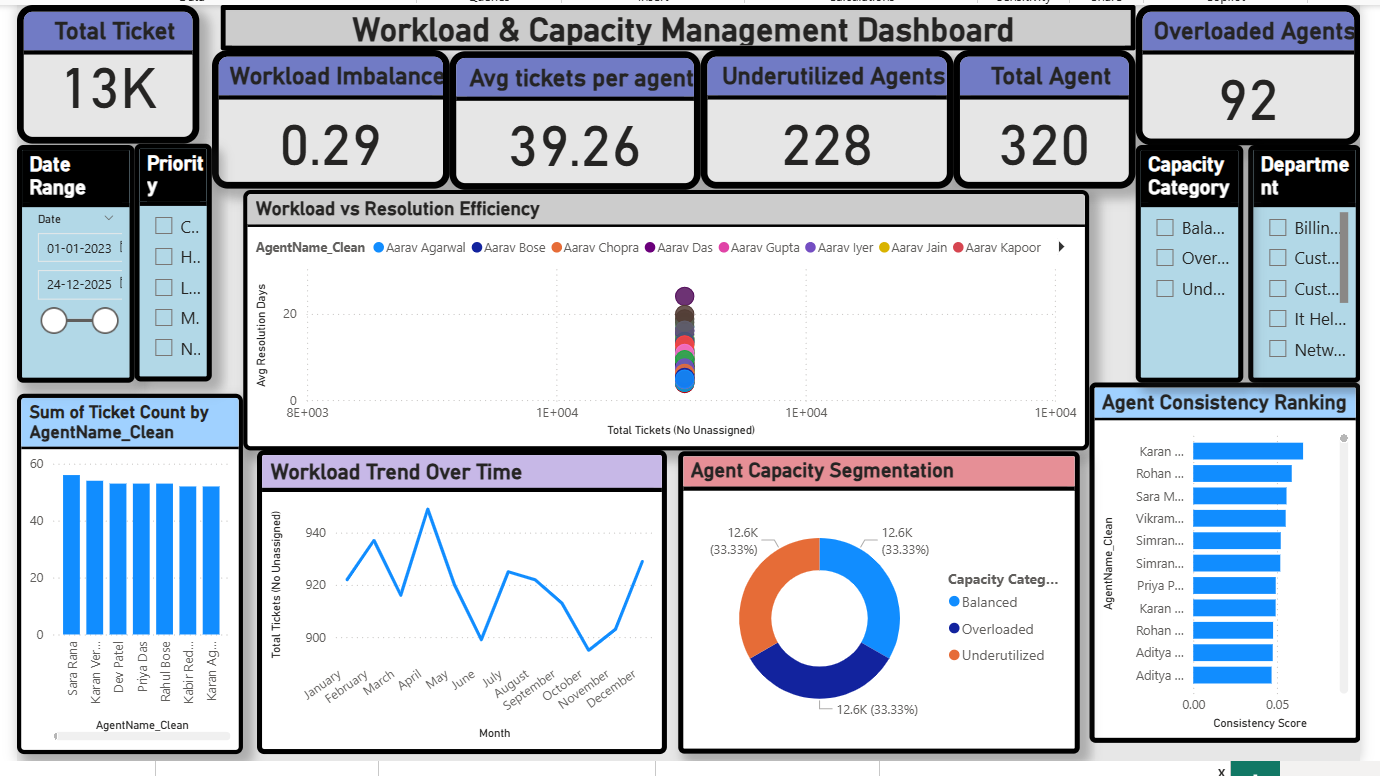

This screenshot's page, from the dashboard's own definition file:
{"tool":"powerbi","page":{"name":"Workload & Capacity Management Dashboard","canvas":[1280,720],"ordinal":4},"visuals":[{"type":"card","title":"Total Ticket","fields":{"Values":["all_measures.Total Tickets"]},"box":[0,0,173.8,132.1],"z":0},{"type":"card","title":"Workload Imbalance","fields":{"Values":["all_measures.Workload Imbalance %"]},"box":[185.7,42.9,226.2,132.1],"z":1000},{"type":"card","title":"Avg tickets per agent","fields":{"Values":["all_measures.Avg Tickets per Agents"]},"box":[411.9,44,239.3,132.1],"z":2000},{"type":"card","title":"Underutilized Agents","fields":{"Values":["all_measures.Underutilized Agentss"]},"box":[651.2,42.9,240.5,132.1],"z":3000},{"type":"card","title":"Total Agent","fields":{"Values":["all_measures.Total Agents (Clean)"]},"box":[891.7,42.9,173.8,132.1],"z":4000},{"type":"card","title":"Overloaded Agents","fields":{"Values":["all_measures.Overloaded Agentss (Clean)"]},"box":[1065.5,0,214.3,133.3],"z":5000},{"type":"columnChart","fields":{"Category":["Agent Summary.AgentName_Clean"],"Y":["Sum(Agent Summary.Ticket Count)"]},"box":[0,370.2,215.5,342.9],"z":6000},{"type":"scatterChart","title":"Workload vs Resolution Efficiency","fields":{"X":["all_measures.Total Tickets (No Unassigned)"],"Y":["all_measures.Avg Resolution Days"],"Series":["tickets.AgentName_Clean"],"Size":["all_measures.Total Tickets (No Unassigned)"],"Category":["tickets.AgentName_Clean"]},"box":[215.5,176.2,806,247.6],"z":7000},{"type":"clusteredBarChart","title":"Agent Consistency Ranking","fields":{"Category":["tickets.AgentName_Clean"],"Y":["all_measures.Consistency Score"]},"box":[1021.4,359.5,258.3,342.9],"z":8000},{"type":"donutChart","title":"Agent Capacity Segmentation","fields":{"Category":["Agent Summary.Capacity Category"],"Y":["CountNonNull(tickets.AgentName_Clean)"]},"box":[629.8,425,382.1,288.1],"z":9000},{"type":"slicer","title":"Date Range","fields":{"Values":["DateTable.Date"]},"box":[0,133.3,111.9,226.2],"z":10000},{"type":"slicer","title":"Priority","fields":{"Values":["tickets.priority"]},"box":[111.9,132.1,73.8,226.2],"z":11000},{"type":"slicer","title":"Department","fields":{"Values":["departments.department_name"]},"box":[1172.6,133.3,107.1,226.2],"z":12000},{"type":"slicer","title":"Capacity Category","fields":{"Values":["Agent Summary.Capacity Category"]},"box":[1065.5,133.3,102.4,226.2],"z":13000},{"type":"textbox","title":"Workload & Capacity Management Dashboard","box":[194,0,871.4,42.9],"z":14000},{"type":"lineChart","title":"Workload Trend Over Time","fields":{"Category":["DateTable.Date.Variation.Date Hierarchy.Month"],"Y":["all_measures.Total Tickets (No Unassigned)"]},"box":[228.6,423.8,390.5,289.3],"z":15000}]}

Visuals, with their boxes in screenshot pixels (x1, y1, x2, y2), scaled from the page's 1280x720 canvas onto the 1380x776 screenshot:
"Total Ticket" card: (0, 0, 187, 142)
"Workload Imbalance" card: (200, 46, 444, 189)
"Avg tickets per agent" card: (444, 47, 702, 190)
"Underutilized Agents" card: (702, 46, 961, 189)
"Total Agent" card: (961, 46, 1149, 189)
"Overloaded Agents" card: (1149, 0, 1379, 144)
columnChart - Agent Summary.AgentName_Clean x Sum(Agent Summary.Ticket Count): (0, 399, 232, 769)
"Workload vs Resolution Efficiency" scatterChart: (232, 190, 1101, 457)
"Agent Consistency Ranking" clusteredBarChart: (1101, 387, 1379, 757)
"Agent Capacity Segmentation" donutChart: (679, 458, 1091, 769)
"Date Range" slicer: (0, 144, 121, 387)
"Priority" slicer: (121, 142, 200, 386)
"Department" slicer: (1264, 144, 1379, 387)
"Capacity Category" slicer: (1149, 144, 1259, 387)
"Workload & Capacity Management Dashboard" textbox: (209, 0, 1149, 46)
"Workload Trend Over Time" lineChart: (246, 457, 667, 769)
